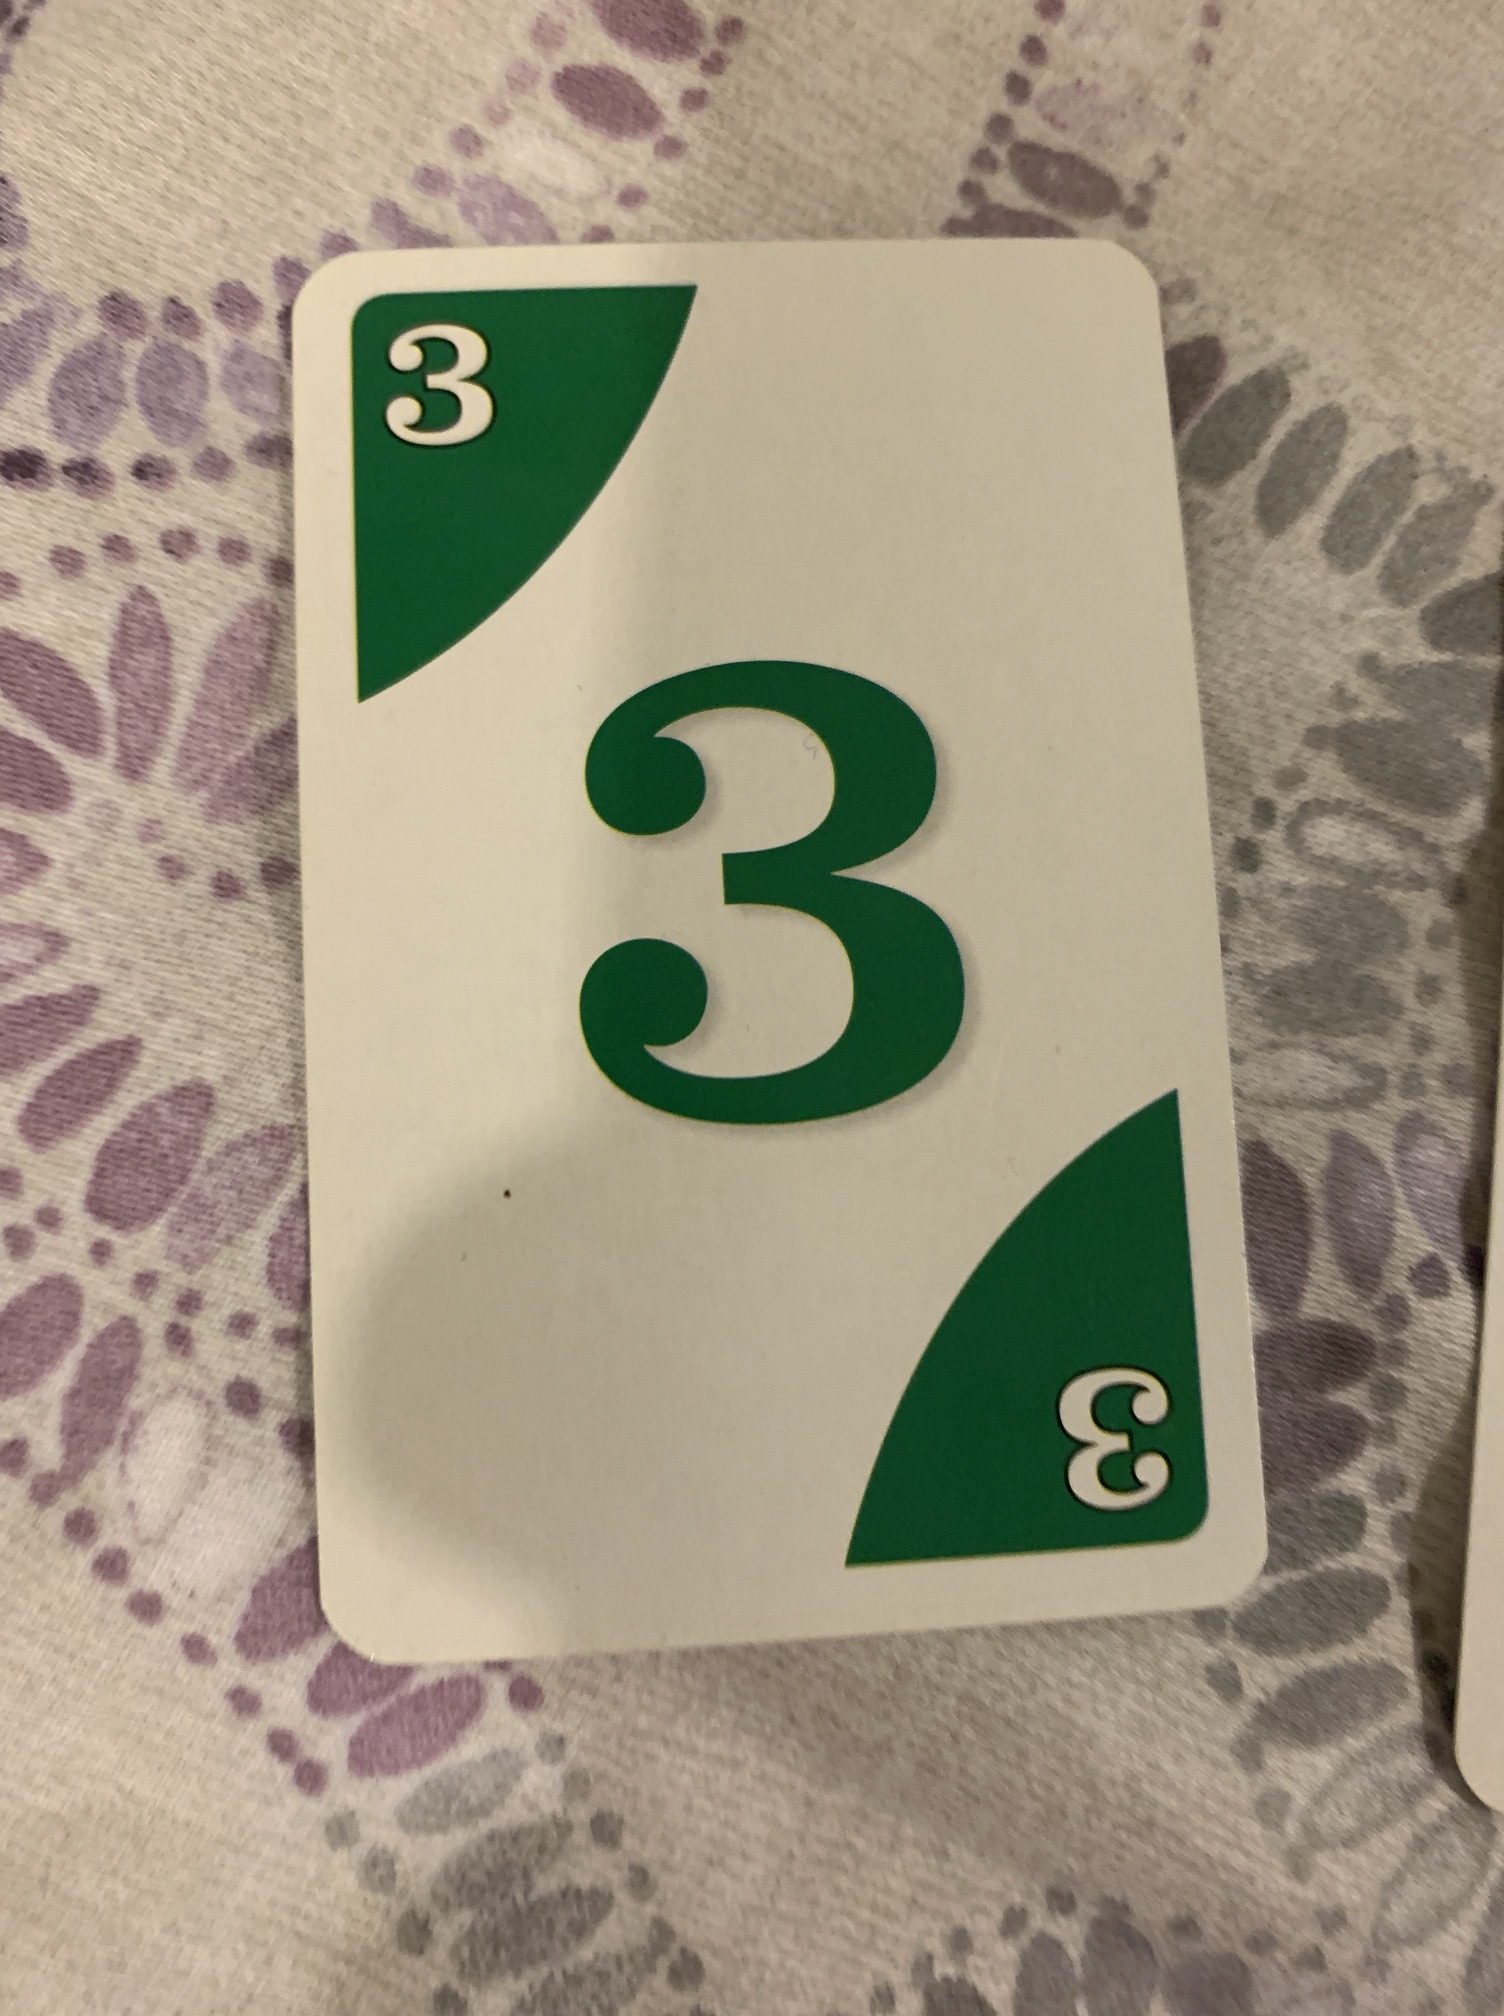three: (280, 228, 1283, 1676)
